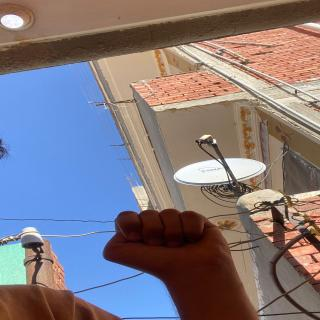SAD: (92, 192, 240, 286)
